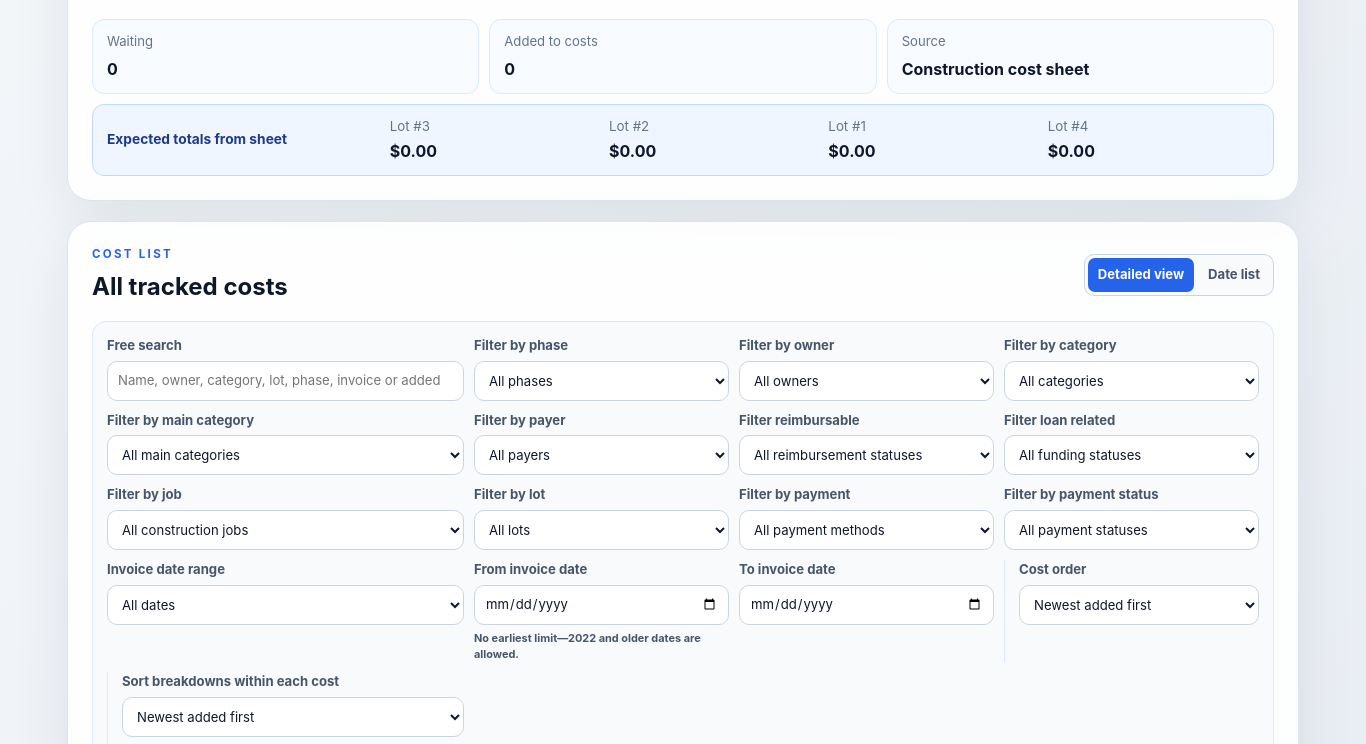
Test: CostPage invoice extraction › shows a development phase total without double-counting its breakdown details
The width and height of the screenshot is (1366, 744).
(page scrolled)
Select "Development" in the dropdown named "Filter costs by phase" at (602,380), box [474,360,729,400]
(page scrolled)
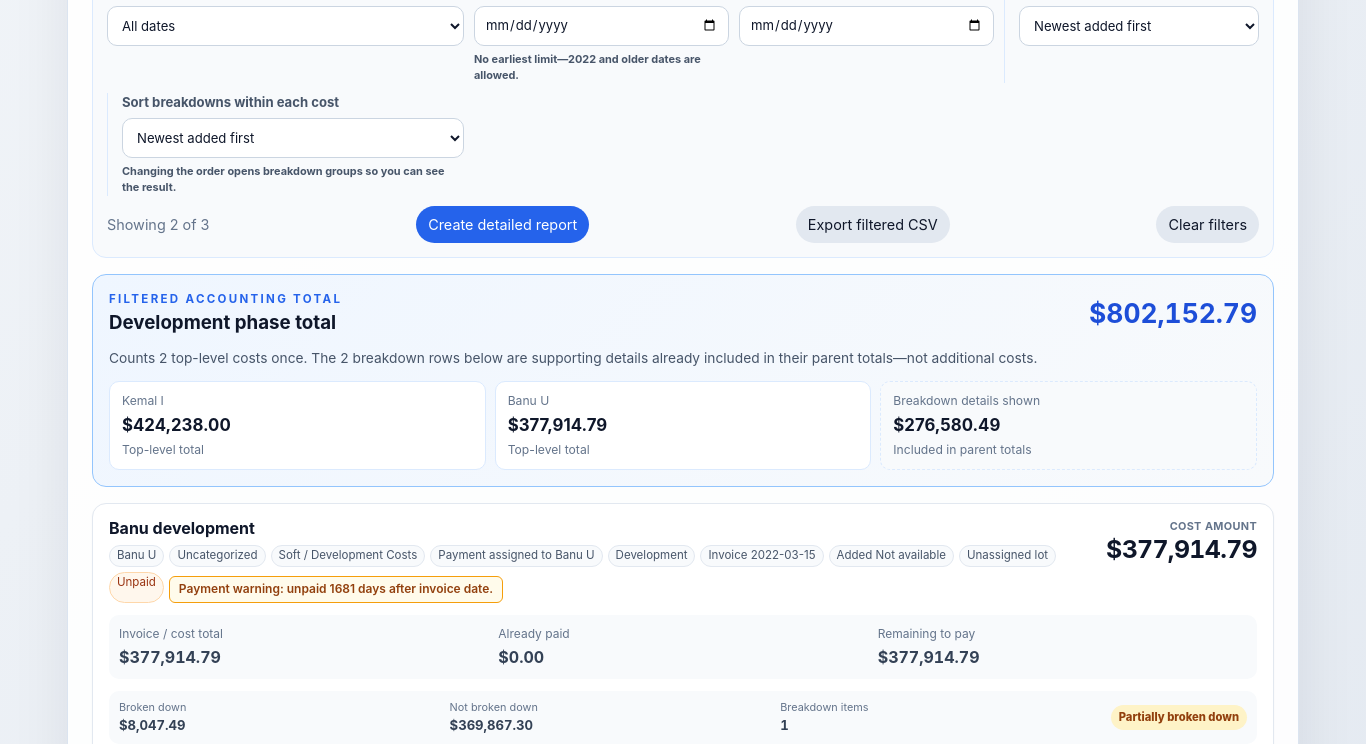
Expected: the heading "Development phase total" is shown, [109,309,342,337]
Expected: the element named "Development phase totals" shows "$802,152.79", [1089,297,1257,329]
Expected: the element named "Development phase totals" shows "Counts 2 top-level costs once", [92,274,1274,488]
